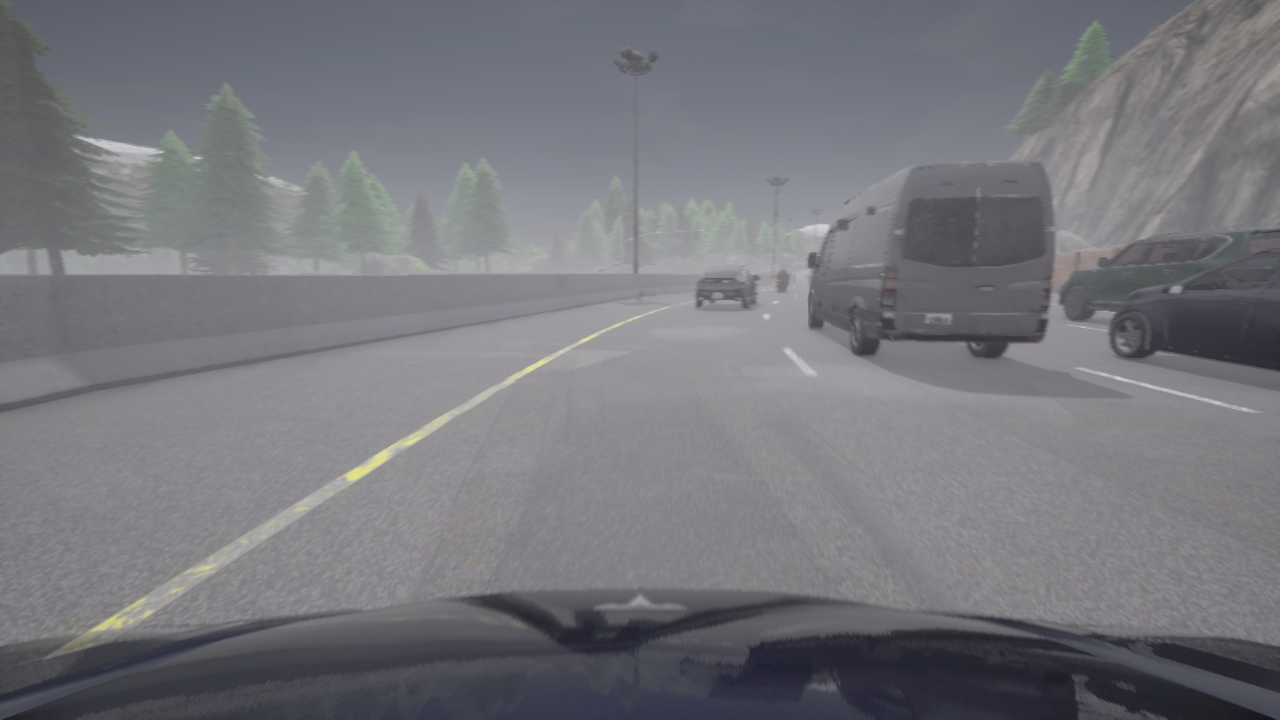cyclist: (0, 588, 1279, 719), (808, 161, 1056, 357), (1059, 226, 1279, 320), (1109, 249, 1279, 370), (694, 265, 759, 308), (776, 274, 787, 291), (810, 259, 817, 284)
